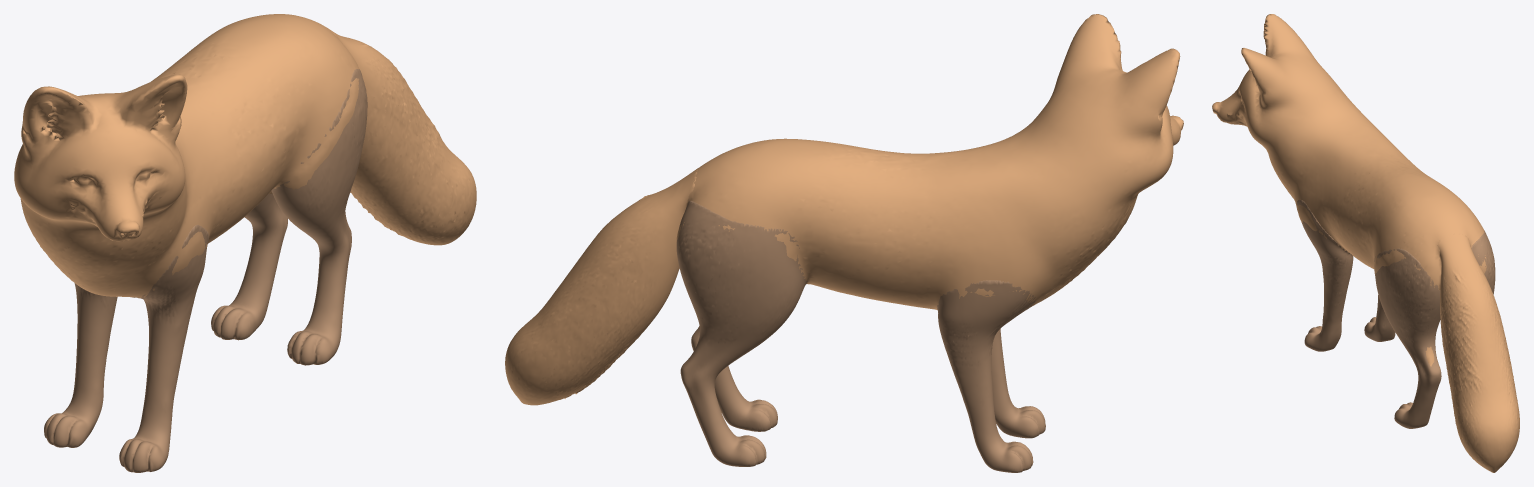
Rendered from fox-segmented.glb.
3 renders of one model, left to right at view 1: azimuth 30°, elevation 25°; view 2: azimuth 150°, elevation 25°; view 3: azimuth 270°, elevation 25°, orthographic. The views are drawn at different scales.
Visible parts, largest first — view 1: part_1, part_0, part_4, part_3, part_2, part_5; view 2: part_1, part_0, part_5, part_2, part_3, part_4; view 3: part_1, part_0, part_4, part_3, part_5, part_2.
Part boxes in pixels (x1,y1,x2,y2): part_1: (14,14,363,297); part_0: (328,28,476,245); part_4: (271,69,367,365); part_3: (119,224,209,472); part_2: (44,283,117,447); part_5: (211,193,287,340); part_1: (676,14,1183,327); part_0: (505,168,697,405); part_5: (676,201,807,466); part_2: (937,280,1035,472); part_3: (991,329,1045,438); part_4: (691,327,777,431); part_1: (1212,14,1486,366); part_0: (1437,233,1519,472); part_4: (1374,248,1441,428); part_3: (1296,199,1353,351); part_5: (1471,230,1495,294); part_2: (1364,295,1395,341).
Size of the model in its own units: 0.9404 by 0.6582 by 0.6349.
